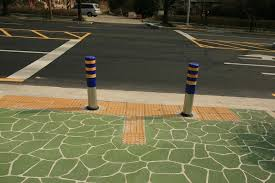block(point type): (103, 99, 180, 118), (9, 94, 80, 112), (198, 104, 236, 122), (121, 115, 146, 142)
